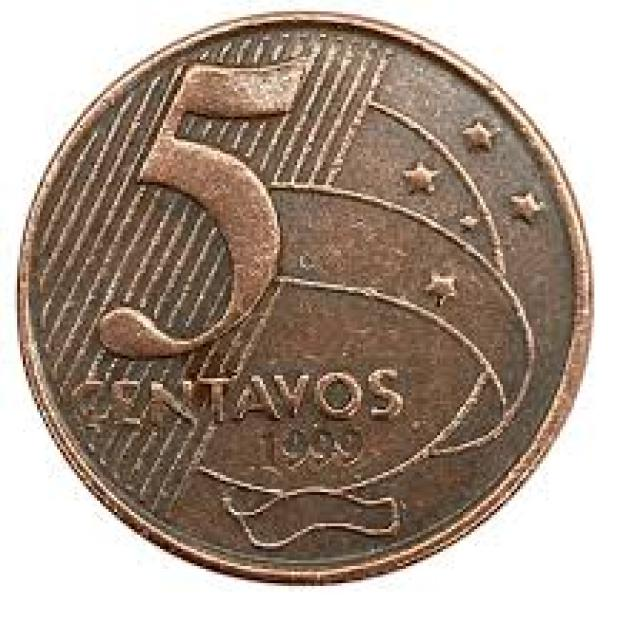5 cent: (18, 9, 596, 589)
